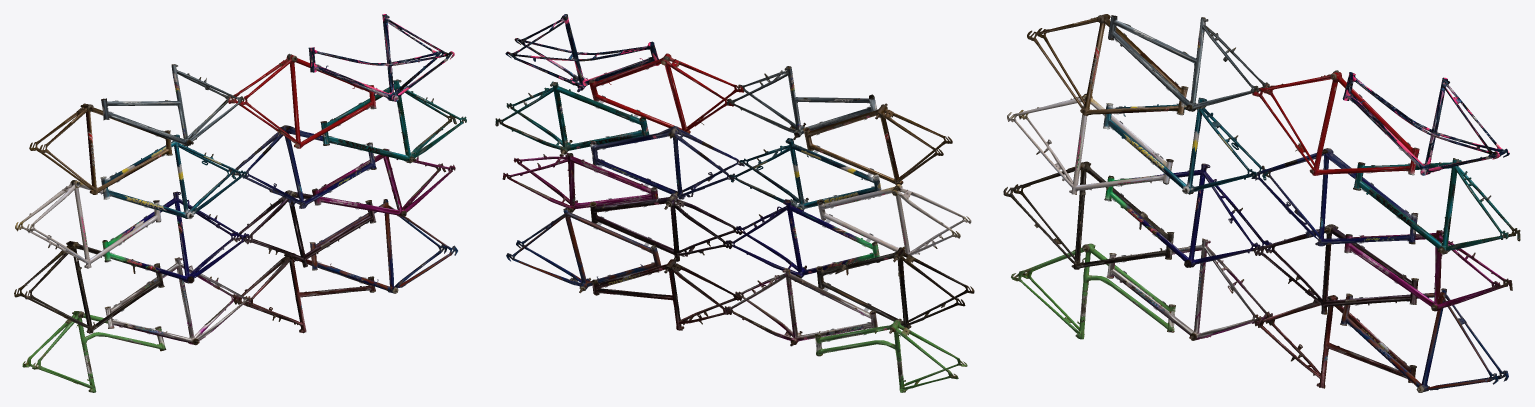
Rendered from FrameStructure_v5_10_1024.glb.
3 renders of one model, left to right at view 1: azimuth 30°, elevation 25°; view 2: azimuth 150°, elevation 25°; view 3: azimuth 330°, elevation 25°, orthographic. The views are drawn at different scales.
Size of the model in its own units: 3.19 by 2.03 by 0.294.
17 materials, 16 textured.
